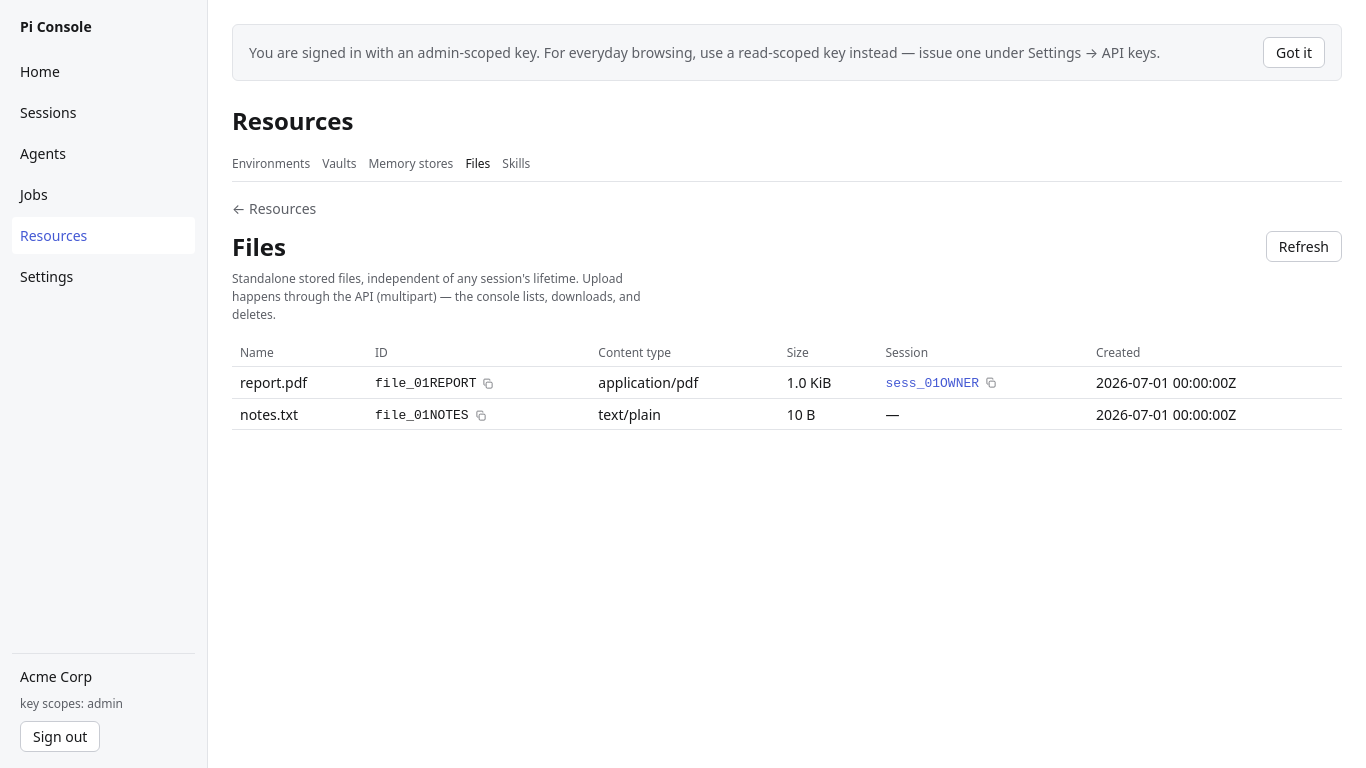
Test: files (§9.5) › is axe-clean with the detail panel open
This screenshot has width=1366, height=768.
Click the text "report.pdf". click: (300,383)
box: [232,367,367,398]
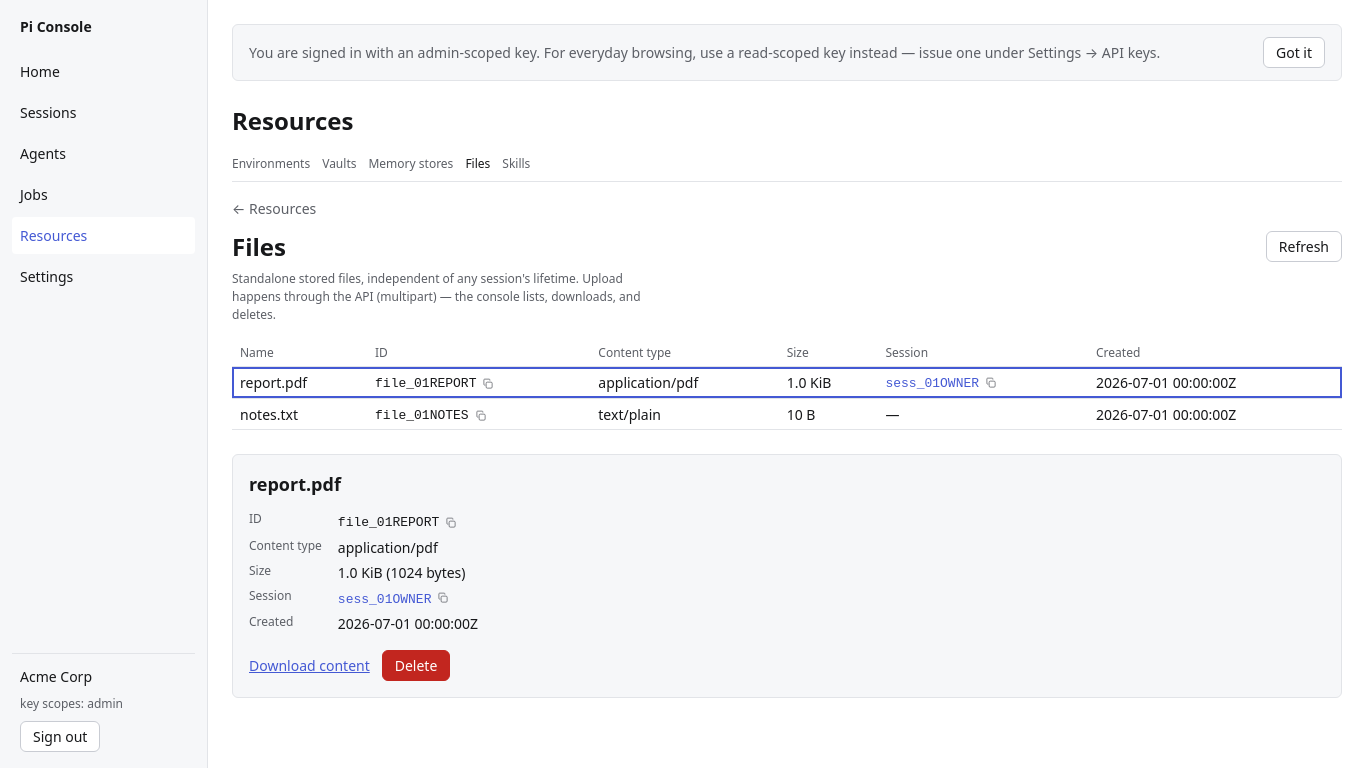
Result: the element named "File file_01REPORT" is shown at [232,454,1342,698]
